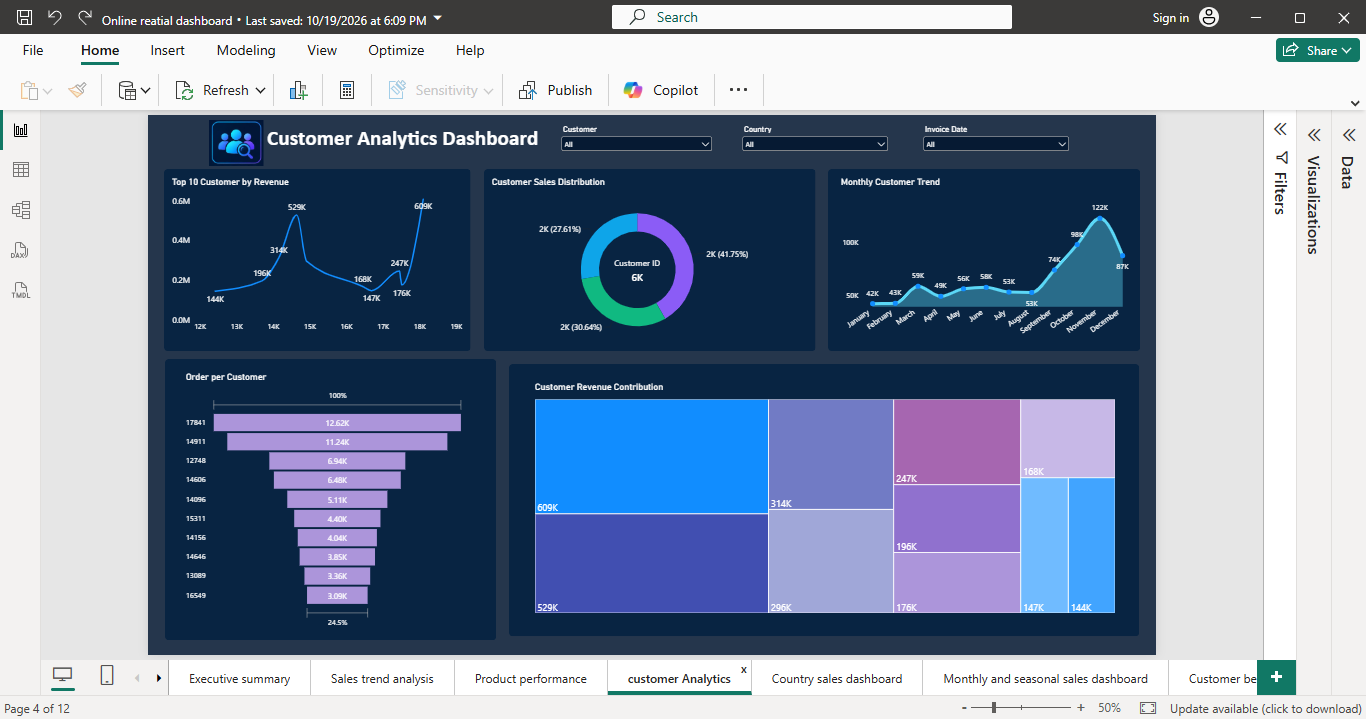

The dashboard page shown, as its layout file describes it:
{"tool":"powerbi","page":{"name":"customer Analytics","canvas":[2016,1080],"ordinal":3},"visuals":[{"type":"textbox","box":[238.5,17.3,585.3,60.7],"z":0},{"type":"shape","box":[32.5,108.4,613.5,364.2],"z":1000},{"type":"shape","box":[672,108.4,663.3,364.2],"z":2000},{"type":"shape","box":[1359.2,108.4,624.3,364.2],"z":3000},{"type":"lineChart","title":"Top 10  Customer by  Revenue","fields":{"Category":["Factsales.Customer ID"],"Y":["Factsales.Total Revenue"]},"box":[32.5,108.4,613.5,346.8],"z":4000},{"type":"donutChart","title":"Customer Sales Distribution","fields":{"Category":["Factsales.Customer Segment"],"Y":["Count(Factsales.Customer ID)"]},"box":[672,108.4,613,364],"z":5000},{"type":"lineChart","title":"Monthly Customer Trend","fields":{"Category":["Factsales.Time.Variation.Date Hierarchy.Month"],"Y":["CountNonNull(Factsales.Customer ID)"]},"box":[1369.2,108.9,613.5,364.5],"z":6000},{"type":"shape","box":[33.3,489,662.4,562.3],"z":7000},{"type":"shape","box":[722.4,497.9,1260.3,544.6],"z":8000},{"type":"funnel","title":"Order per Customer","fields":{"Category":["Factsales.Customer ID"],"Y":["CountNonNull(Factsales.Invoice)"]},"box":[60,497.9,586.8,544.6],"z":9000},{"type":"treemap","title":"Customer Revenue Contribution","fields":{"Group":["Factsales.Customer ID"],"Values":["Factsales.Total Revenue"]},"box":[758.3,517.7,1192.3,494.2],"z":10000},{"type":"slicer","fields":{"Values":["Factsales.Invoice"]},"box":[1545.3,18.3,300.7,75.8],"z":11000},{"type":"slicer","fields":{"Values":["Factsales.Country"]},"box":[1184.5,18.3,300.7,75.8],"z":12000},{"type":"slicer","fields":{"Values":["Factsales.Customer ID"]},"box":[821,18.3,311.2,75.8],"z":13000},{"type":"image","box":[116.5,11,120.9,92.3],"z":14000}]}

Visuals, with their boxes on the page's 2016x1080 design canvas (x1, y1, x2, y2). These are canvas units, not pixel positions in the 1366x719 screenshot, which may show the page scaled, cropped or inside an application window:
textbox: (238,17,824,78)
shape: (32,108,646,473)
shape: (672,108,1335,473)
shape: (1359,108,1984,473)
"Top 10  Customer by  Revenue" lineChart: (32,108,646,455)
"Customer Sales Distribution" donutChart: (672,108,1285,472)
"Monthly Customer Trend" lineChart: (1369,109,1983,473)
shape: (33,489,696,1051)
shape: (722,498,1983,1042)
"Order per Customer" funnel: (60,498,647,1042)
"Customer Revenue Contribution" treemap: (758,518,1951,1012)
slicer - Factsales.Invoice: (1545,18,1846,94)
slicer - Factsales.Country: (1184,18,1485,94)
slicer - Factsales.Customer ID: (821,18,1132,94)
image: (116,11,237,103)
